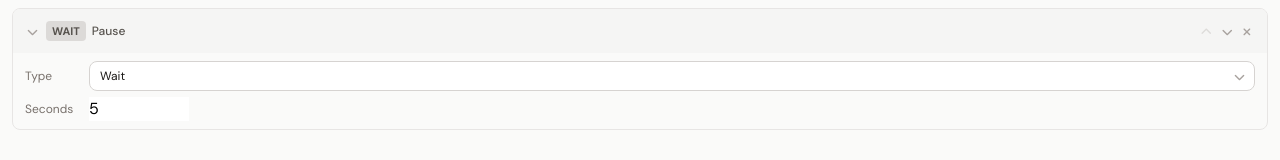
Test: StepCard › collapses and expands the card body
Expected: the text "Seconds" is shown, top-left (25, 101), bottom-right (81, 117)
Click the button titled "Collapse". click: click(32, 31)
box: top-left (25, 17), bottom-right (40, 45)
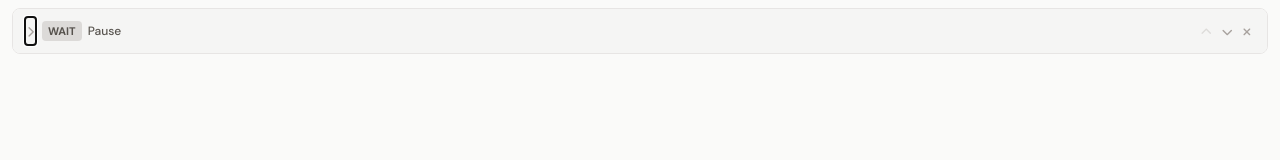
Expected: the text "Seconds" is gone
Click the button titled "Expand". click: click(30, 31)
box: top-left (25, 17), bottom-right (36, 45)
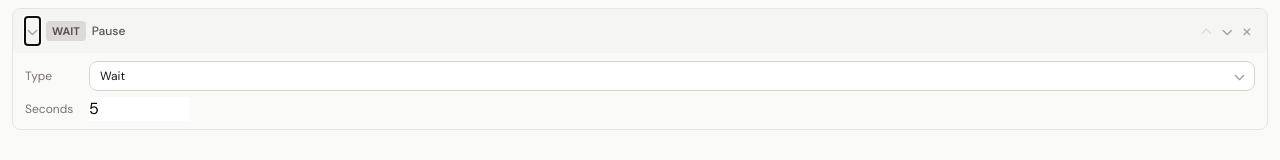
Expected: the text "Seconds" is shown, top-left (25, 101), bottom-right (81, 117)
